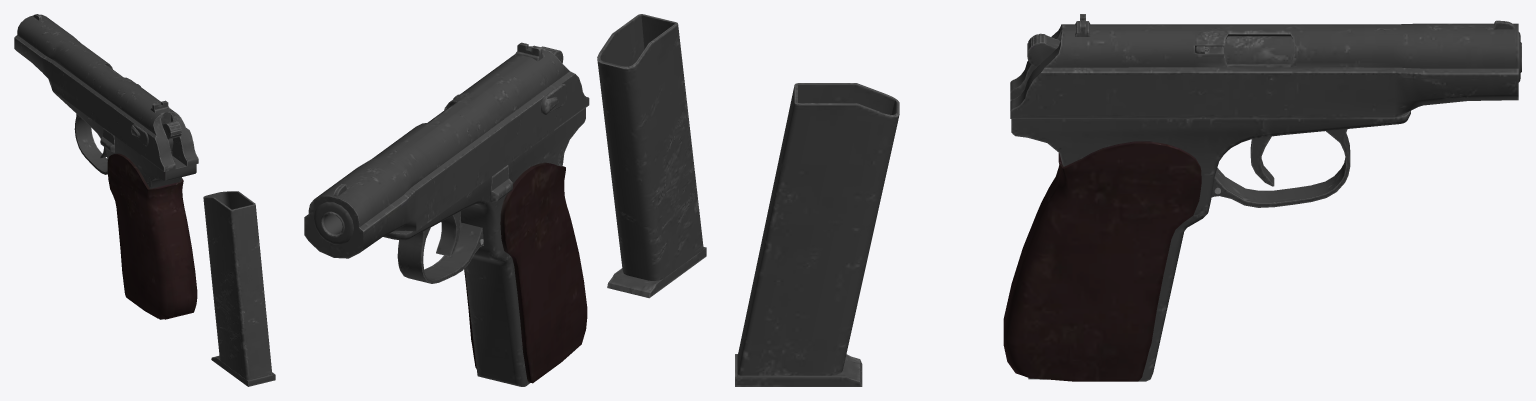
File: gun_pistol.glb
3 renders of one model, left to right at view 1: azimuth 30°, elevation 25°; view 2: azimuth 150°, elevation 25°; view 3: azimuth 270°, elevation 25°, orthographic. The views are drawn at different scales.
Parts seen in each view (by area): view 1: Body, Slide, Magazine, Hammer, Safety; view 2: Body, Slide, Magazine, Trigger, Barrel, Safety; view 3: Body, Slide, Magazine, Barrel, Hammer, Trigger.
Part boxes in pixels (<box>): Body: <box>52,90,197,319</box>; Slide: <box>14,14,198,171</box>; Magazine: <box>203,191,275,386</box>; Hammer: <box>162,121,181,153</box>; Safety: <box>131,124,148,146</box>; Body: <box>383,108,587,386</box>; Slide: <box>304,42,589,258</box>; Magazine: <box>597,14,706,298</box>; Trigger: <box>436,211,460,256</box>; Barrel: <box>321,105,452,237</box>; Safety: <box>541,83,567,114</box>; Body: <box>1003,111,1410,381</box>; Slide: <box>1010,14,1520,118</box>; Magazine: <box>735,83,899,386</box>; Barrel: <box>1223,36,1521,72</box>; Hammer: <box>1027,33,1060,67</box>; Trigger: <box>1250,136,1274,186</box>.
Size of the model in its own units: 0.0257 by 0.1276 by 0.2557.
Materials: 1 (1 with a texture image).
